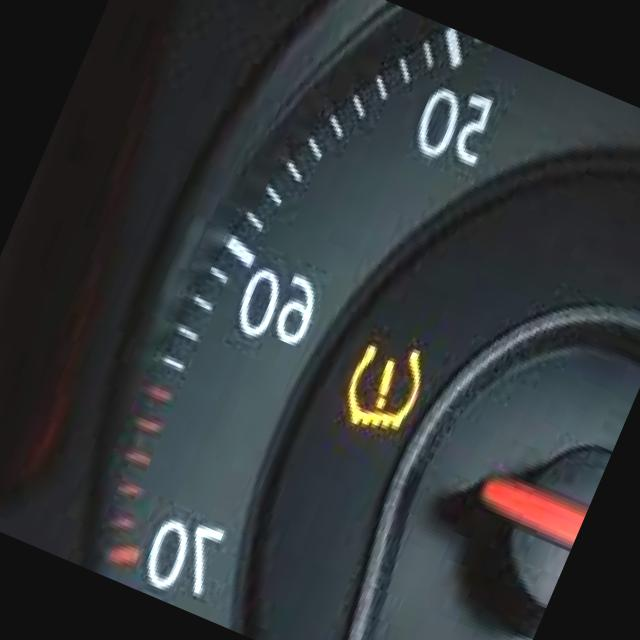kontrolka: (321, 311, 454, 460)
